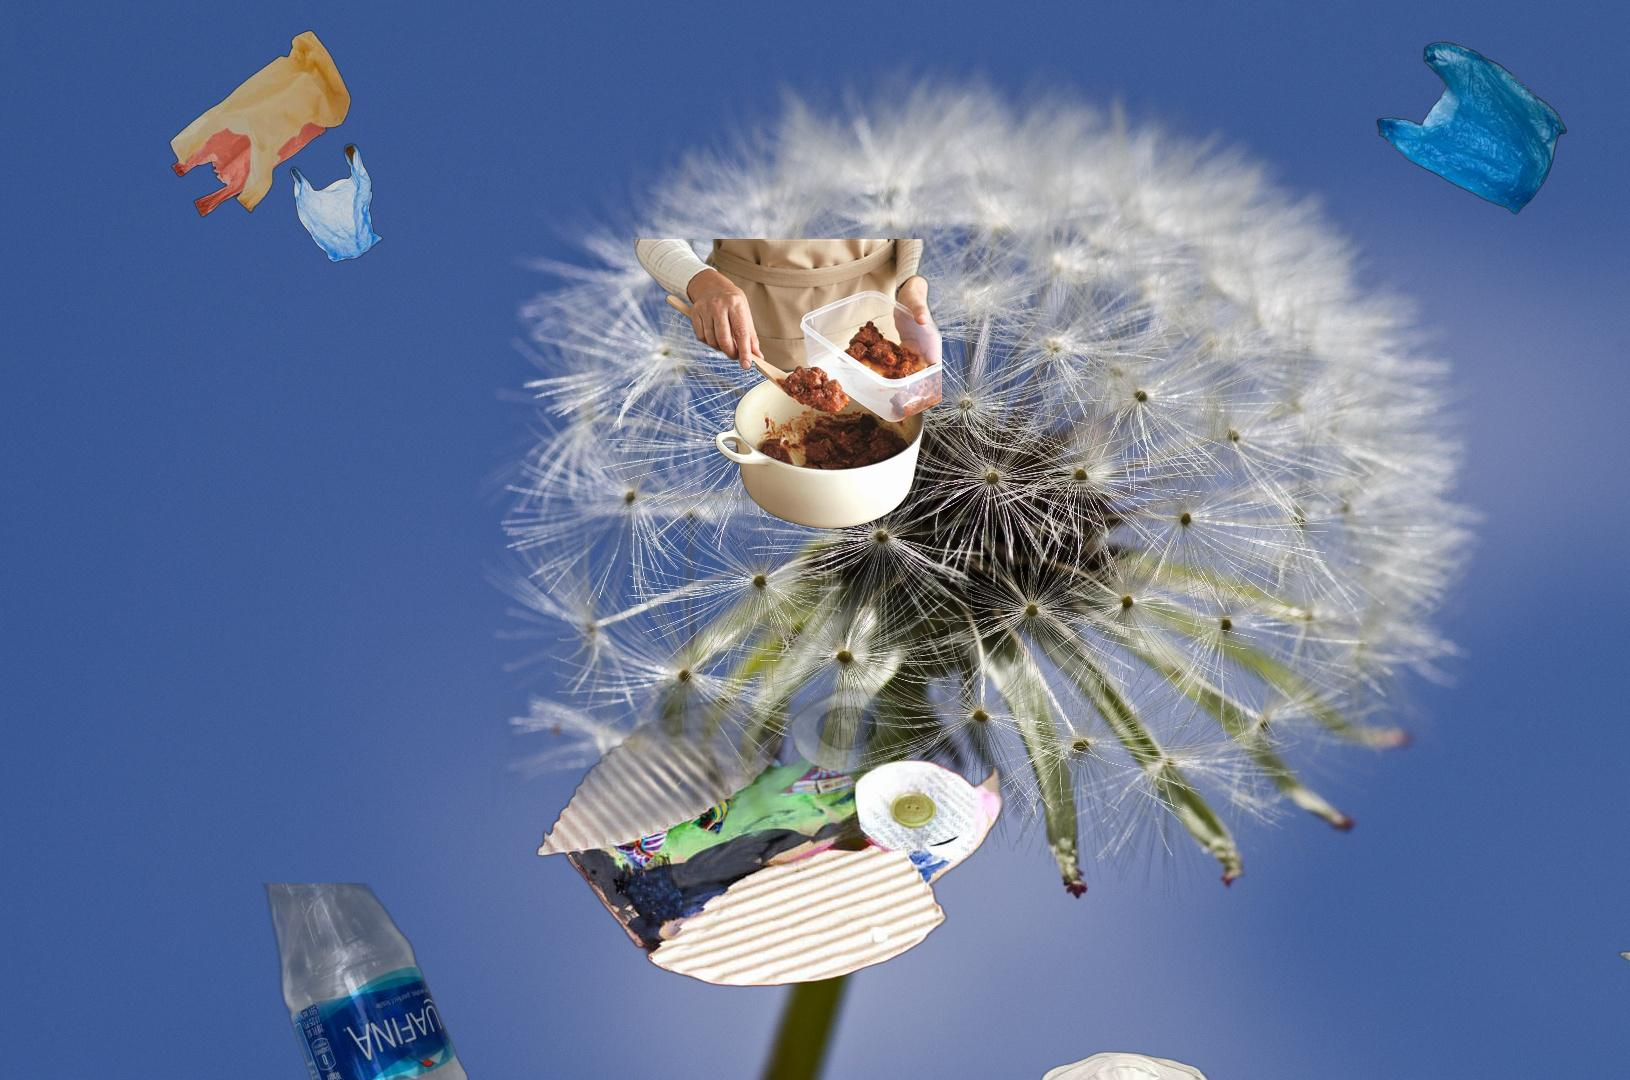biological: (564, 239, 942, 532)
paper: (1617, 721, 1630, 1045)
plastic-bag: (167, 27, 386, 264), (1375, 39, 1570, 216)
plastic-bottles: (255, 884, 473, 1080)
trash: (1022, 1049, 1216, 1080)
trashbox-cardboard: (492, 623, 1059, 990)
